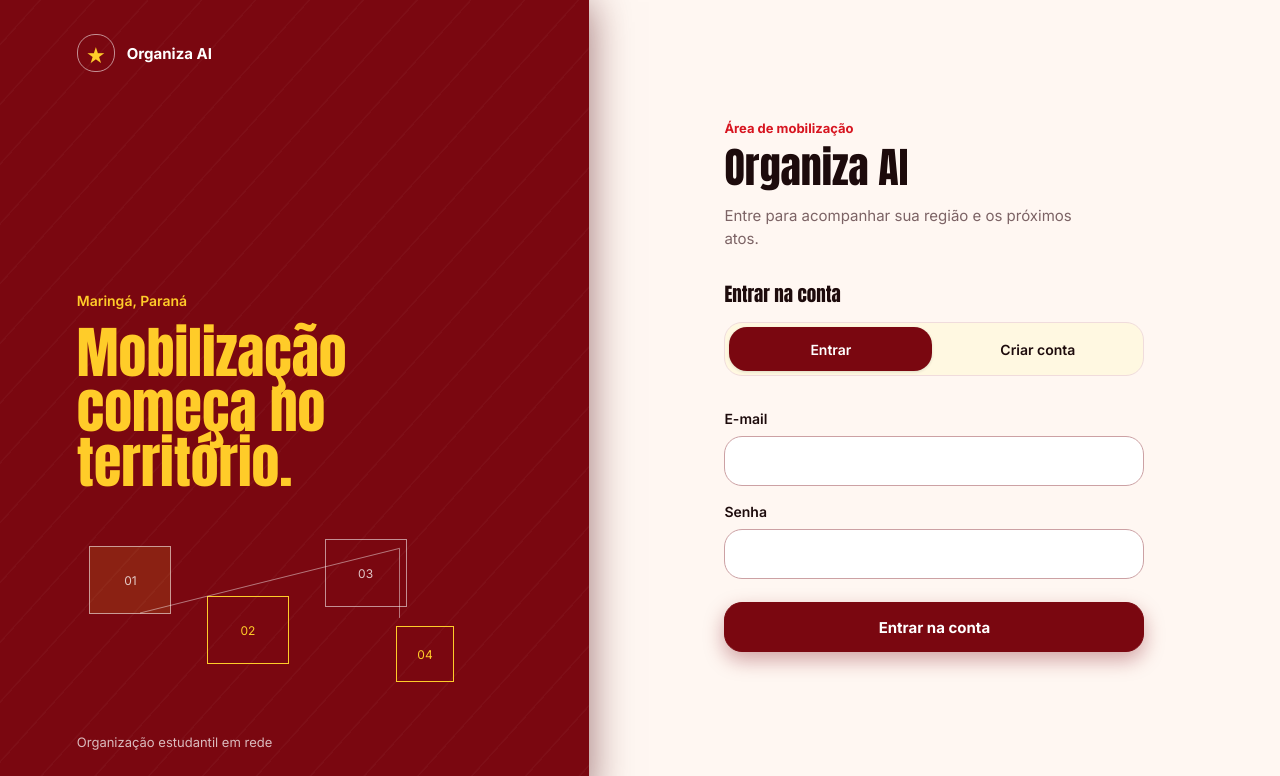
Test: AuthForm › shows required registration fields when switching to signup
This screenshot has width=1280, height=776.
Click the button "Criar conta" at (1038, 349), box [936,327,1139,371]
(page scrolled)
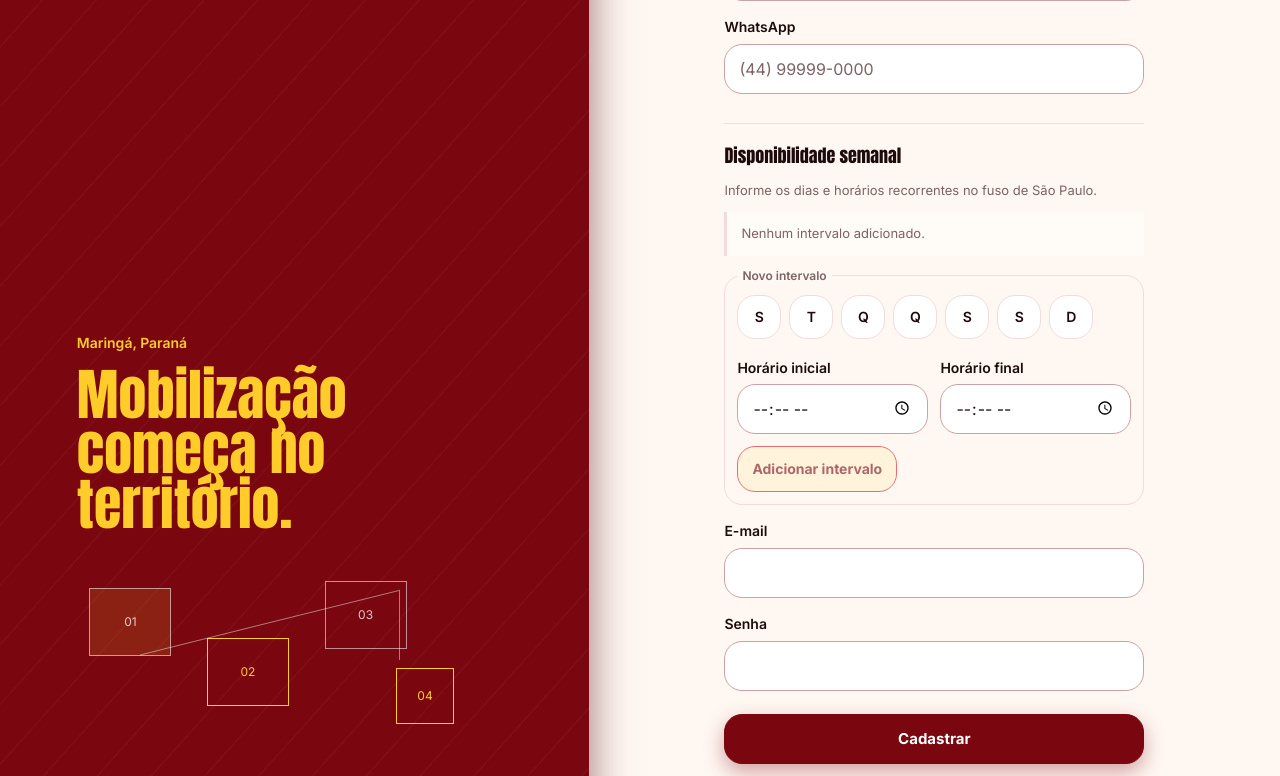
expect the field labelled "WhatsApp" is shown: met, box [724,44,1144,94]
expect the heading "Disponibilidade semanal" is shown: met, box [724,142,901,169]
expect the element "Novo intervalo" is shown: met, box [724,268,1144,505]
